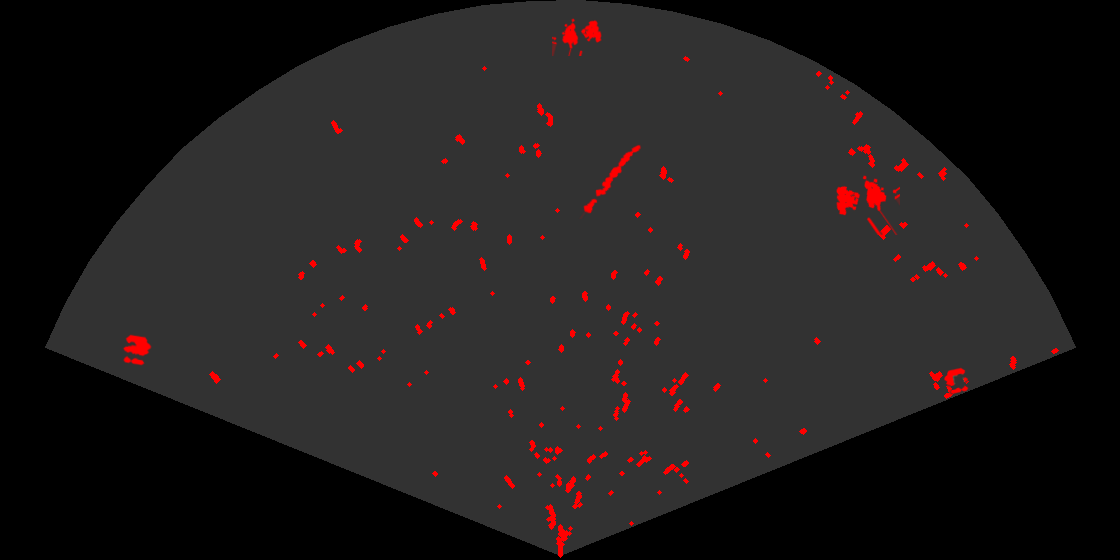ball: (121, 333, 153, 367), (943, 366, 970, 395)
cage: (835, 174, 900, 235), (552, 17, 603, 56)
chain: (578, 143, 643, 219)
